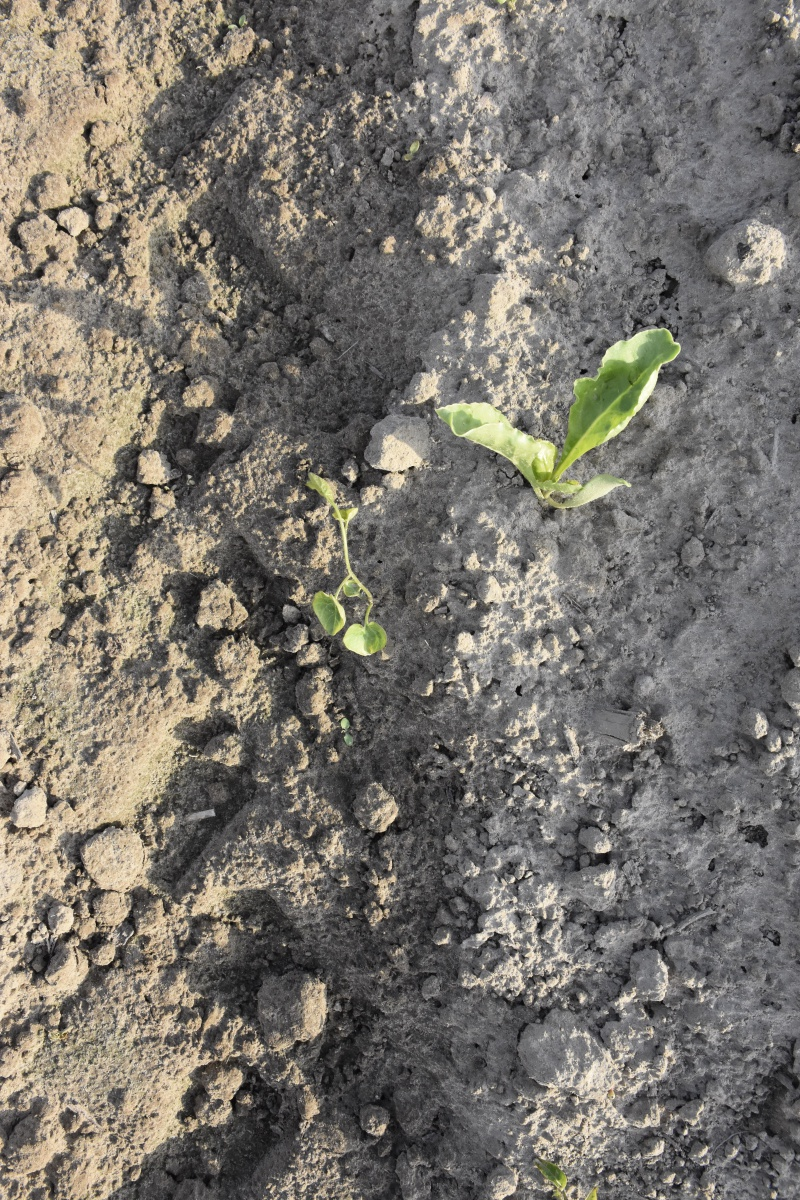field bindweed: (291, 475, 393, 671)
sugar beet: (438, 326, 688, 512)
